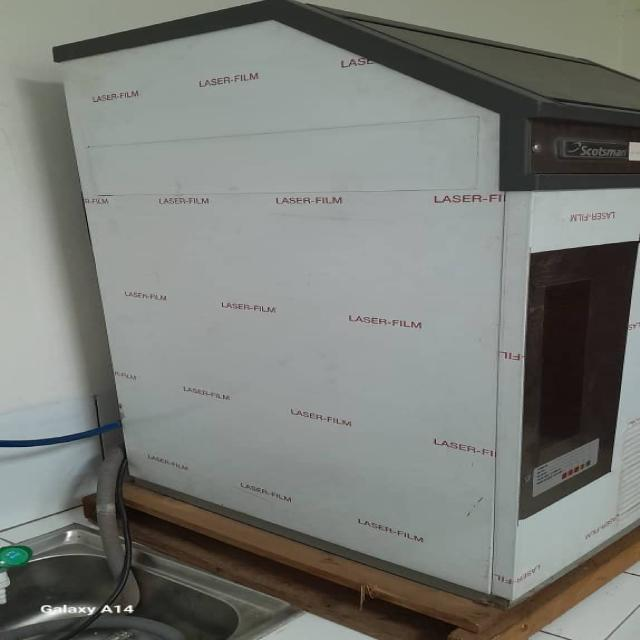Ice Maker: (34, 0, 629, 574)
